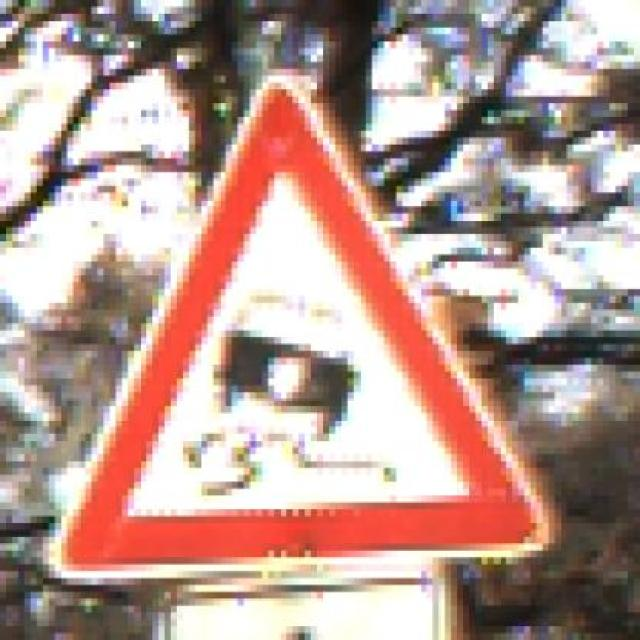Slippery Road Ahead: (42, 61, 561, 584)
